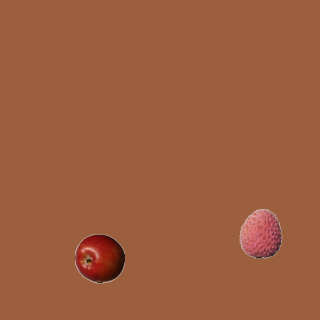Apple Braeburn: (74, 233, 124, 283)
Lychee: (235, 208, 285, 258)
